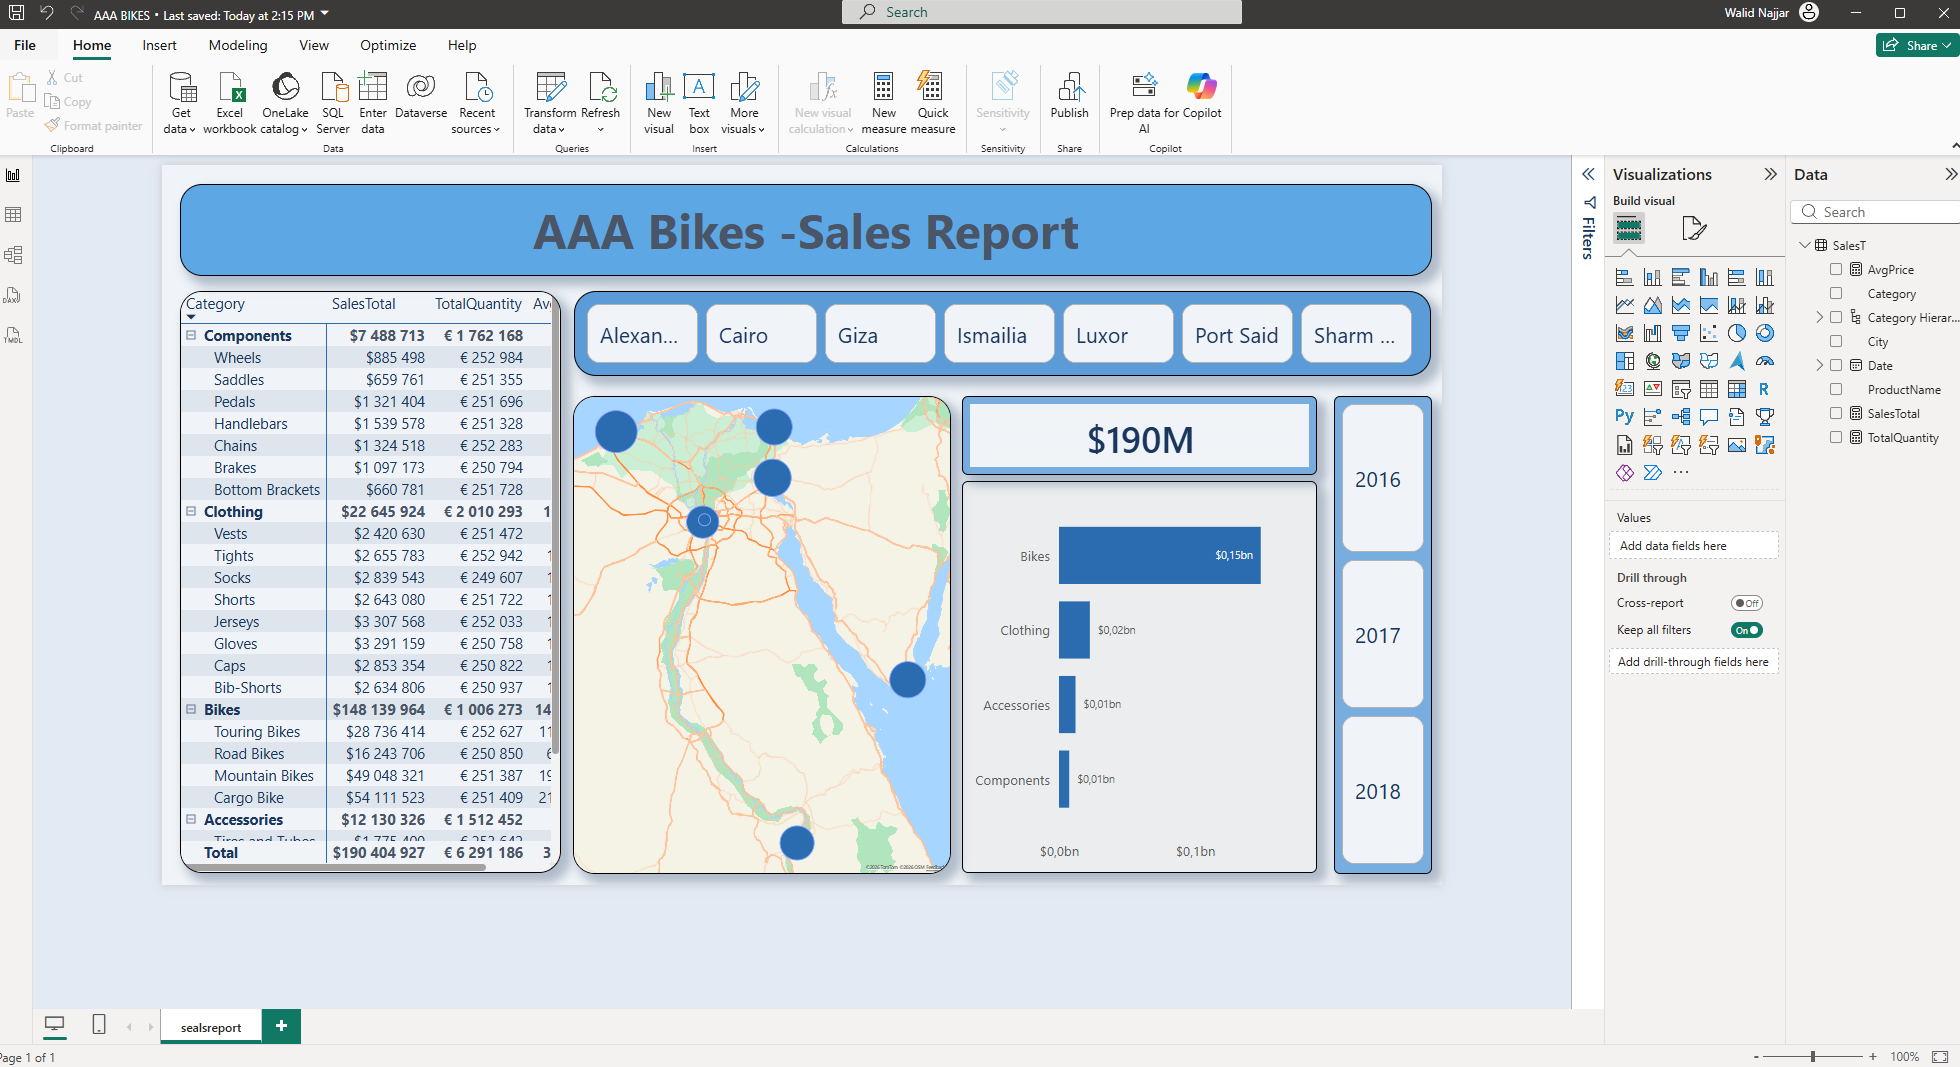

This screenshot's page, from the dashboard's own definition file:
{"tool":"powerbi","page":{"name":"sealsreport","canvas":[1280,720],"ordinal":0},"visuals":[{"type":"pivotTable","fields":{"Values":["SalesT.SalesTotal","SalesT.TotalQuantity","SalesT.AvgPrice"],"Rows":["SalesT.Category Hierarchy.Category","SalesT.Category Hierarchy.ProductName"]},"box":[17.8,126.2,381.6,582.1],"z":0},{"type":"textbox","box":[17.8,19.3,1251.8,92.1],"z":1000},{"type":"azureMap","fields":{"Category":["SalesT.City"],"Size":["SalesT.TotalQuantity"]},"box":[411.4,231.1,377.1,477.5],"z":2000},{"type":"clusteredBarChart","fields":{"Y":["SalesT.SalesTotal"],"Category":["SalesT.Category Hierarchy.Category","SalesT.Category Hierarchy.ProductName"]},"box":[800,229.8,355.6,477.5],"z":3000},{"type":"advancedSlicerVisual","fields":{"Values":["SalesT.Date.Variation.Date Hierarchy.Year"]},"box":[1172.1,231.1,97.8,477.5],"z":4000},{"type":"advancedSlicerVisual","fields":{"Values":["SalesT.City"]},"box":[411.3,126.2,858.3,84.6],"z":5000}]}

Visuals, with their boxes on the page's 1280x720 design canvas (x1, y1, x2, y2). These are canvas units, not pixel positions in the 1960x1067 screenshot, which may show the page scaled, cropped or inside an application window:
pivotTable - SalesT.SalesTotal x SalesT.TotalQuantity: [left=18, top=126, right=399, bottom=708]
textbox: [left=18, top=19, right=1270, bottom=111]
azureMap - SalesT.City x SalesT.TotalQuantity: [left=411, top=231, right=788, bottom=709]
clusteredBarChart - SalesT.SalesTotal x SalesT.Category Hierarchy.Category: [left=800, top=230, right=1156, bottom=707]
advancedSlicerVisual - SalesT.Date.Variation.Date Hierarchy.Year: [left=1172, top=231, right=1270, bottom=709]
advancedSlicerVisual - SalesT.City: [left=411, top=126, right=1270, bottom=211]
